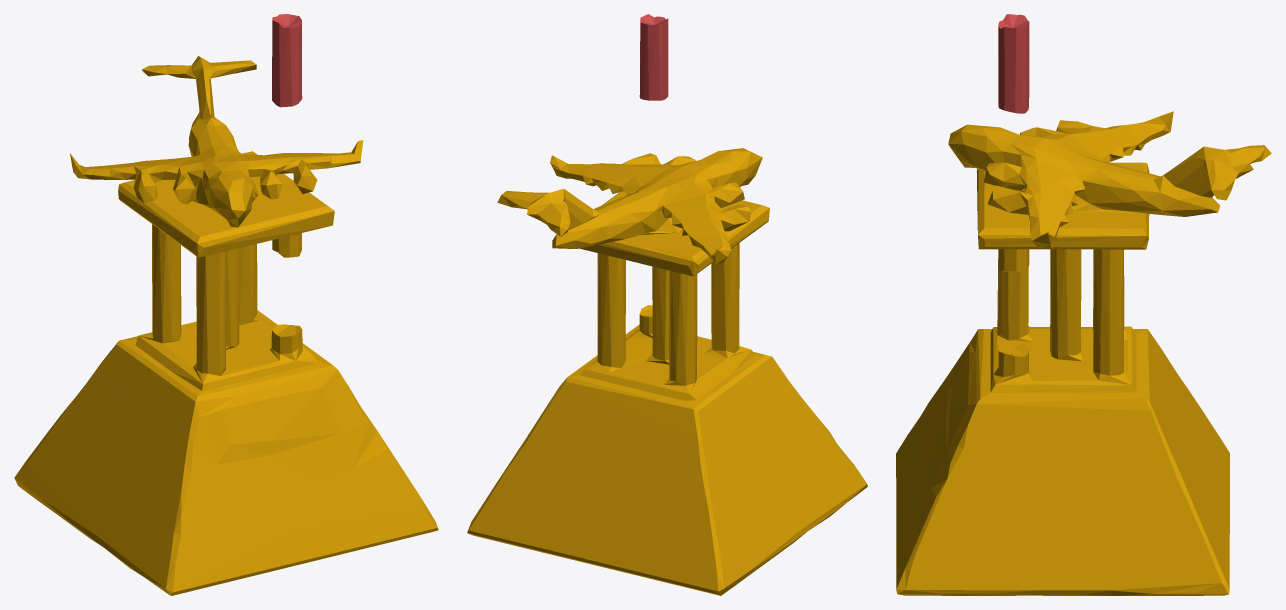
Rendered from fractured_18_2pcs_transformed.glb.
3 renders of one model, left to right at view 1: azimuth 30°, elevation 25°; view 2: azimuth 150°, elevation 25°; view 3: azimuth 270°, elevation 25°, orthographic. The views are drawn at different scales.
Visible parts, largest first — view 1: piece_0.obj, piece_1.obj; view 2: piece_0.obj, piece_1.obj; view 3: piece_0.obj, piece_1.obj.
Boxes of the visible parts, x1,y1,x2,y2 form: piece_0.obj: [14, 56, 438, 595]; piece_1.obj: [272, 14, 302, 107]; piece_0.obj: [467, 148, 867, 595]; piece_1.obj: [639, 14, 668, 100]; piece_0.obj: [896, 111, 1271, 595]; piece_1.obj: [998, 14, 1029, 113].
Bounding box in the file's own units: 0.7429 × 1.3 × 0.8403.
